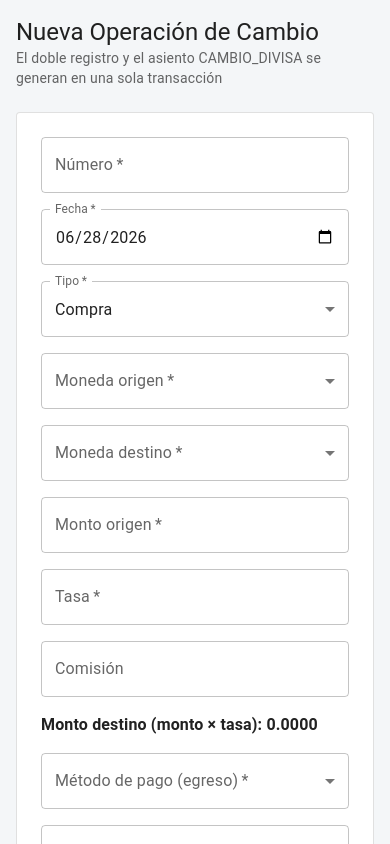
Test: OperacionCambioFormPage › calcula monto destino = monto × tasa con decimal.js (sin float)
This screenshot has width=390, height=844.
Expected: the field labelled "Número *" is shown, x1=41 y1=137 x2=349 y2=193
Type "100.10" into the field labelled "Monto origen *". click: (195, 525)
box: x1=41 y1=497 x2=349 y2=553
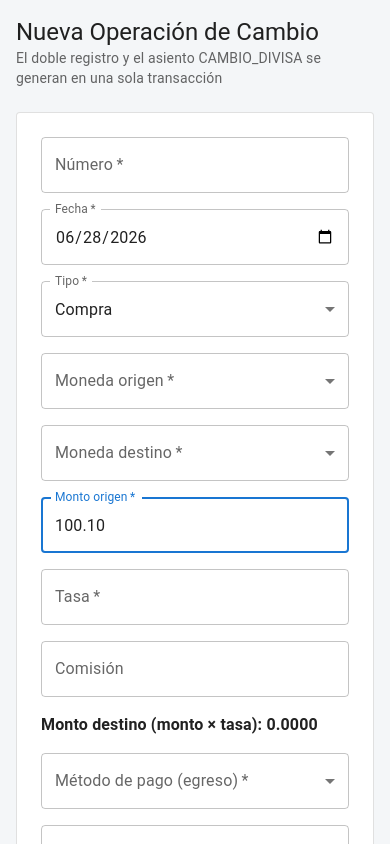
Type "36.123456" into the field labelled "Tasa *". click: (195, 597)
box: x1=41 y1=569 x2=349 y2=625
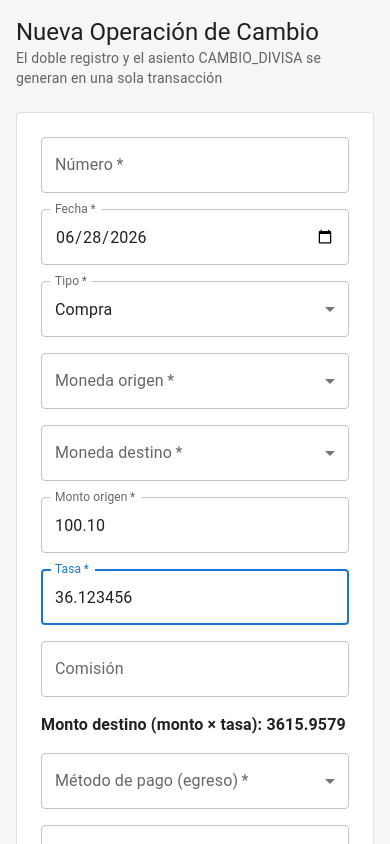
Expected: the text "Monto destino (monto × tasa): 3615.9579" is shown, x1=41 y1=713 x2=349 y2=737
